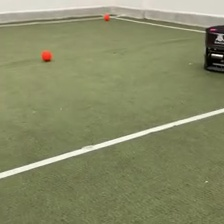ball: (41, 50, 52, 61), (103, 13, 110, 20)
robot: (203, 23, 224, 73)
